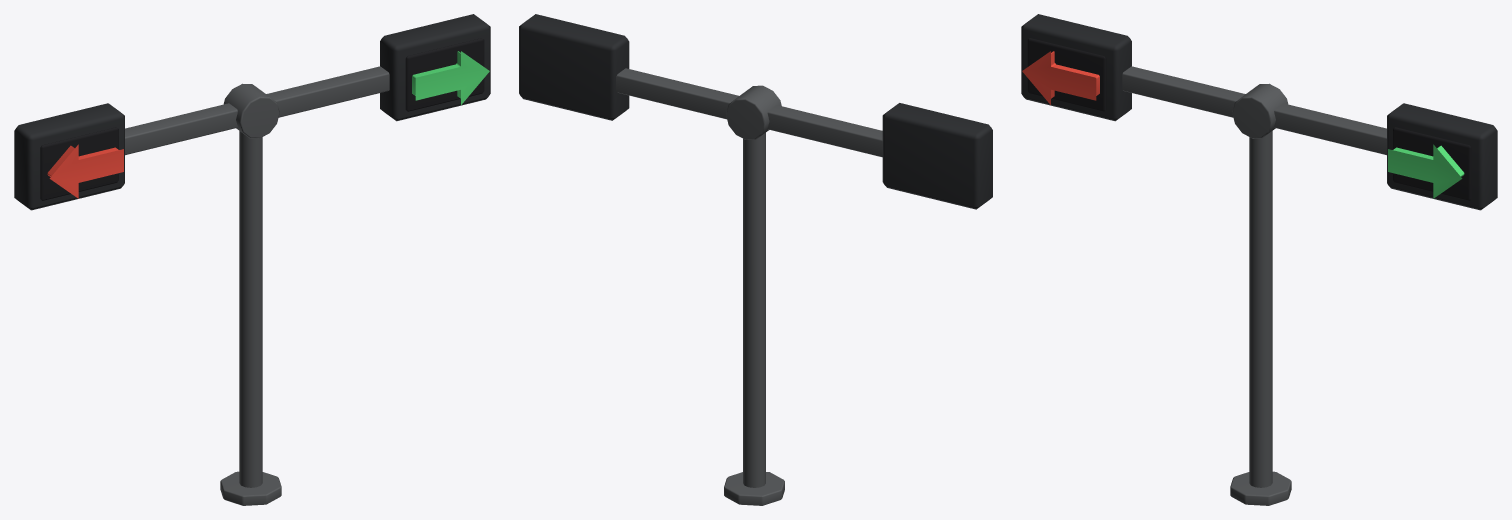
Rendered from arrow.glb.
The picture shows the model from 3 angles, left to right: view 1: azimuth 30°, elevation 25°; view 2: azimuth 150°, elevation 25°; view 3: azimuth 330°, elevation 25°; orthographic projection.
Parts seen in each view (by area): view 1: main_vertical_low_poly_pole, top_horizontal_bar, left_signal_box_outer, right_signal_box_outer, left_recessed_panel, right_recessed_panel, left_real_extruded_arrow_geometry, right_real_extruded_arrow_geometry, center_joint_connector, simple_octagonal_base; view 2: left_signal_box_outer, right_signal_box_outer, main_vertical_low_poly_pole, top_horizontal_bar, center_joint_connector, simple_octagonal_base; view 3: main_vertical_low_poly_pole, top_horizontal_bar, right_signal_box_outer, left_signal_box_outer, right_recessed_panel, left_recessed_panel, right_real_extruded_arrow_geometry, left_real_extruded_arrow_geometry, center_joint_connector, simple_octagonal_base.
Boxes of the visible parts, x1,y1,x2,y2 form: main_vertical_low_poly_pole: (239,131,262,487); top_horizontal_bar: (125,66,389,155); left_signal_box_outer: (14,103,124,210); right_signal_box_outer: (380,14,490,121); left_recessed_panel: (40,127,118,200); right_recessed_panel: (405,38,484,111); left_real_extruded_arrow_geometry: (47,144,123,198); right_real_extruded_arrow_geometry: (412,51,489,104); center_joint_connector: (223,83,279,138); simple_octagonal_base: (220,471,281,505); left_signal_box_outer: (882,103,992,209); right_signal_box_outer: (519,14,629,120); main_vertical_low_poly_pole: (743,133,765,487); top_horizontal_bar: (616,68,882,157); center_joint_connector: (726,85,781,139); simple_octagonal_base: (724,472,784,505); main_vertical_low_poly_pole: (1249,131,1272,487); top_horizontal_bar: (1122,66,1386,155); right_signal_box_outer: (1387,103,1497,210); left_signal_box_outer: (1021,14,1131,121); right_recessed_panel: (1393,127,1471,200); left_recessed_panel: (1027,38,1106,111); right_real_extruded_arrow_geometry: (1388,144,1464,198); left_real_extruded_arrow_geometry: (1022,51,1099,104); center_joint_connector: (1232,83,1288,138); simple_octagonal_base: (1230,471,1291,505).
Bounding box in the file's own units: 3.68 × 3.19 × 0.4737.
